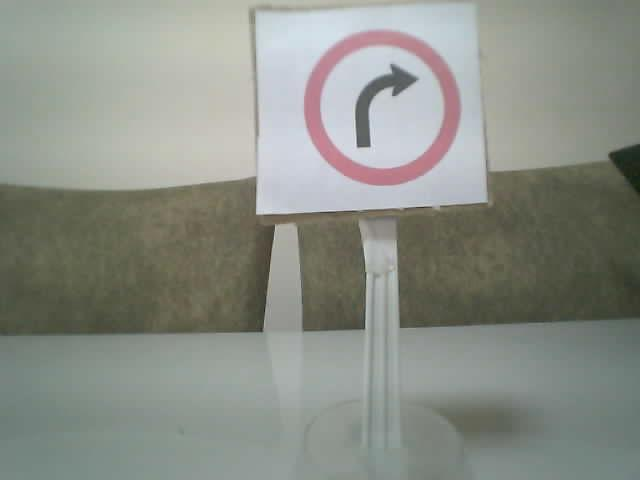R-25b_direita: (302, 28, 459, 185)
